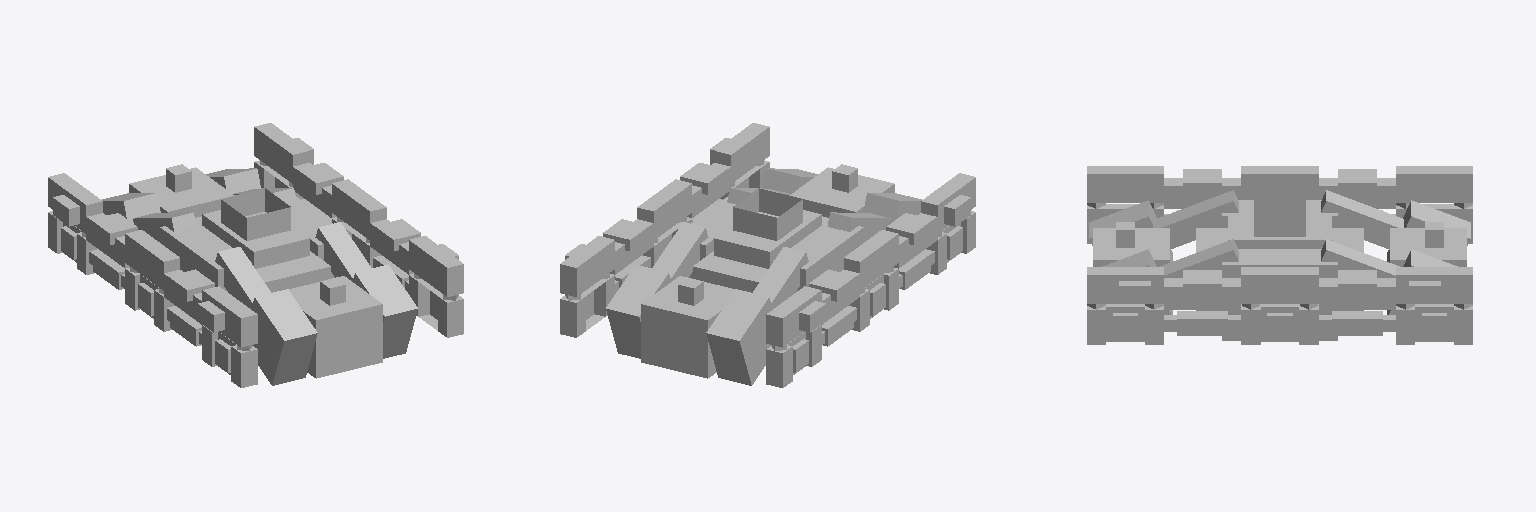
The model's file is frame.obj.
The picture shows the model from 3 angles: view 1: azimuth 30°, elevation 25°; view 2: azimuth 150°, elevation 25°; view 3: azimuth 270°, elevation 25°; orthographic projection.
Visible parts, largest first — view 1: cube_15, cube_14, cube_16, cube_0, cube_7, cube_3, cube_11, cube_22, cube_32, cube_52, cube_21, cube_5 (+26 smaller); view 2: cube_3, cube_8, cube_9, cube_0, cube_7, cube_15, cube_11, cube_32, cube_22, cube_52, cube_21, cube_5 (+26 smaller); view 3: cube_21, cube_53, cube_63, cube_6, cube_7, cube_0, cube_52, cube_4, cube_13, cube_22, cube_32, cube_3 (+28 smaller).
Boxes of the visible parts, box(x1,y1,x2,y2) form: cube_15: box(289, 276, 382, 378); cube_14: box(251, 289, 317, 385); cube_16: box(353, 264, 417, 358); cube_0: box(221, 188, 290, 240); cube_7: box(202, 210, 309, 268); cube_3: box(129, 167, 234, 217); cube_11: box(160, 221, 251, 291); cube_22: box(409, 236, 463, 296); cube_32: box(254, 123, 309, 183); cube_52: box(125, 230, 179, 290); cube_21: box(332, 179, 386, 239); cube_5: box(195, 216, 330, 292); cube_3: box(641, 276, 734, 378); cube_8: box(706, 289, 772, 385); cube_9: box(606, 264, 670, 358); cube_0: box(733, 188, 802, 240); cube_7: box(714, 210, 821, 268); cube_15: box(789, 167, 894, 217); cube_11: box(772, 221, 863, 291); cube_32: box(560, 236, 614, 296); cube_22: box(714, 123, 769, 183); cube_52: box(844, 230, 898, 290); cube_21: box(637, 179, 691, 239); cube_5: box(693, 216, 828, 292); cube_21: box(1241, 267, 1318, 303); cube_53: box(1087, 166, 1163, 202); cube_63: box(1396, 166, 1472, 202); cube_6: box(1222, 249, 1337, 340); cube_7: box(1228, 213, 1331, 248); cube_0: box(1254, 192, 1305, 236); cube_52: box(1241, 166, 1318, 199); cube_4: box(1321, 190, 1403, 249); cube_13: box(1156, 190, 1238, 249); cube_22: box(1087, 267, 1163, 303); cube_32: box(1396, 267, 1472, 303); cube_3: box(1390, 228, 1466, 266).
Bounding box in the file's own units: 2.75 × 1.13 × 3.75.